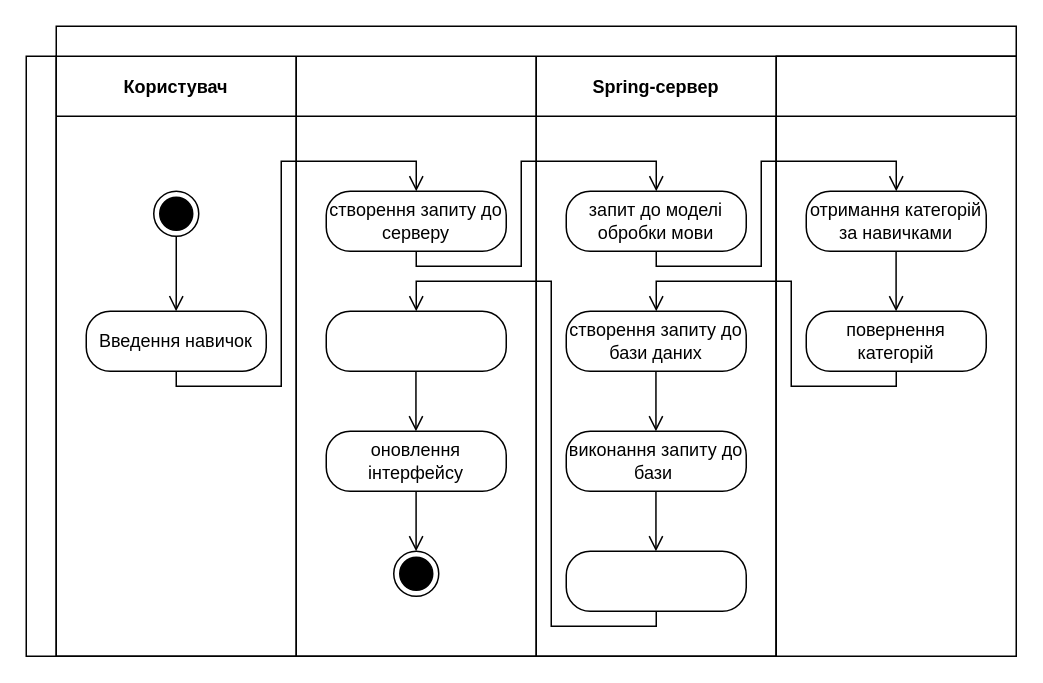
Some shapes in this 1043 by 683 pixel diagram are drawn without their labels. The shapes that lost their labels are listed below. From the top down, each one's box as (x1, y1, x2, y2) in pixels, then its label:
(55, 25, 1016, 56): Пошук вакансій за навичками
(325, 310, 506, 371): отримання відповіді
(295, 55, 536, 656): Android-застосунок
(775, 55, 1016, 656): Модель обробки прирордної мови
(565, 550, 746, 611): Повернення результату
